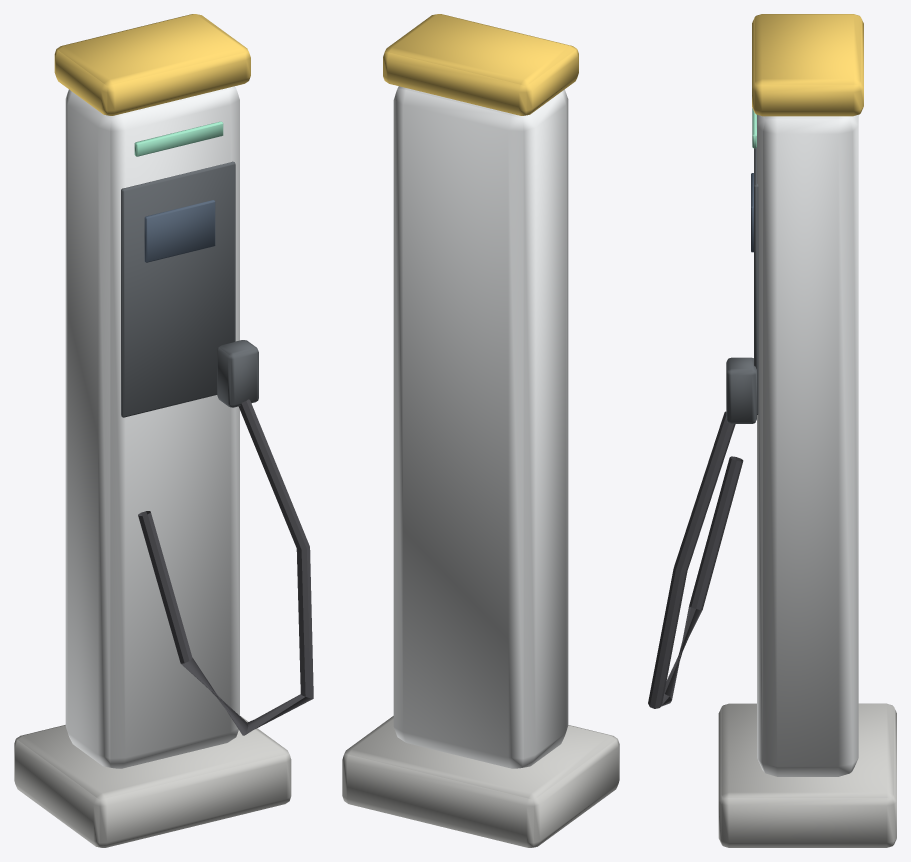
File: ev_charger.glb
3 renders of one model, left to right at view 1: azimuth 30°, elevation 25°; view 2: azimuth 150°, elevation 25°; view 3: azimuth 270°, elevation 25°, orthographic.
Visible parts, largest first — view 1: Body; view 2: Body; view 3: Body.
Part boxes in pixels (<box>): Body: <box>14,14,313,847</box>; Body: <box>342,14,619,847</box>; Body: <box>648,14,896,847</box>.
Size of the model in its own units: 0.45 by 1.64 by 0.4889.
